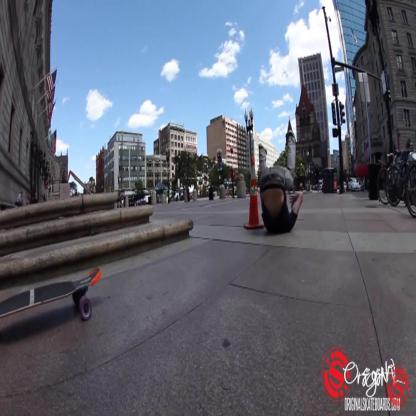Fall_Down: (259, 128, 304, 235)
